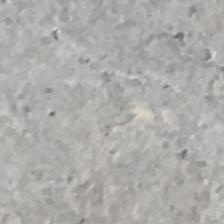Non_Crack: (8, 3, 224, 224)
